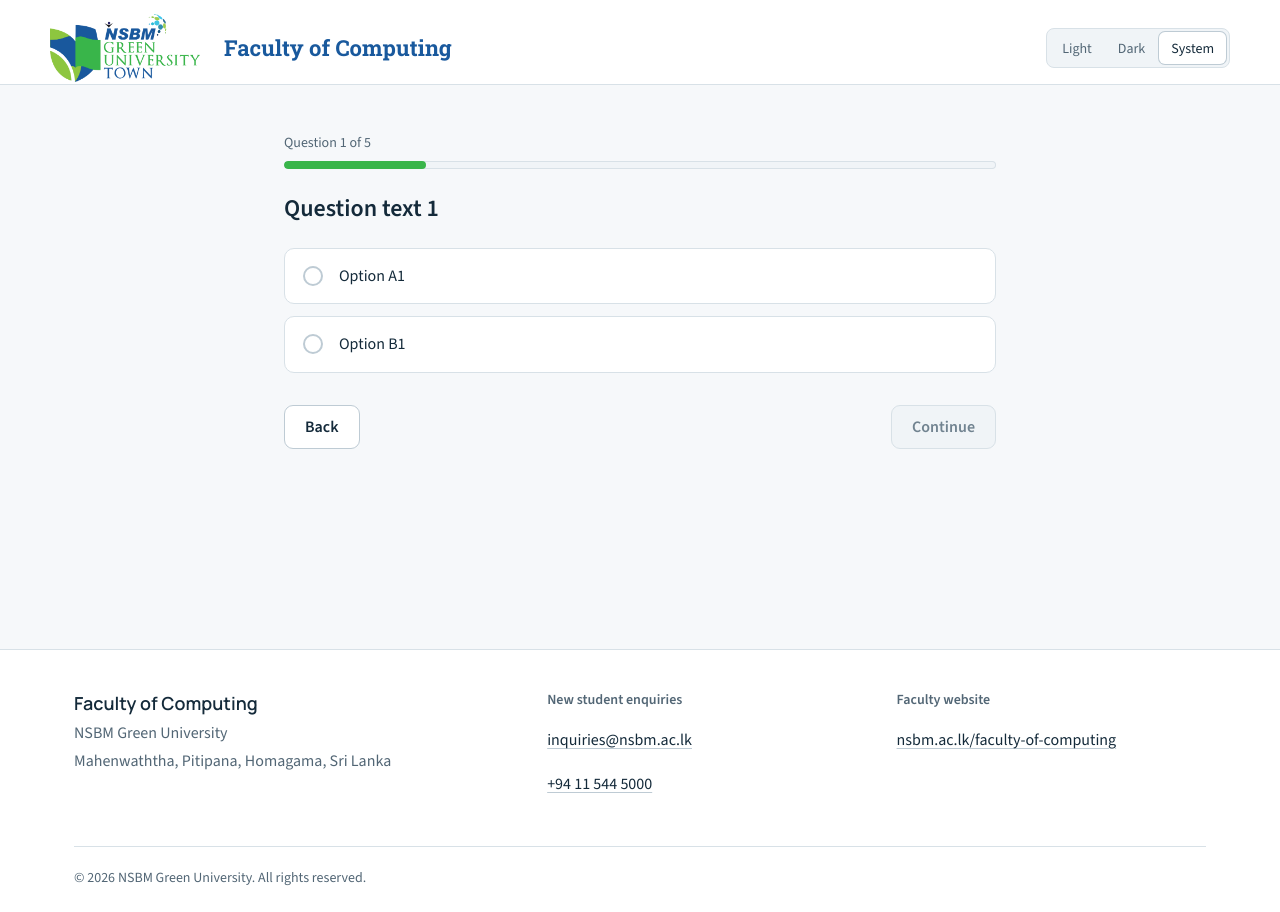
Test: questionnaire › moves forward and back while keeping answers
The width and height of the screenshot is (1280, 912).
Click the radio button labelled "Option B1": point(372, 344) [284,316,996,373]
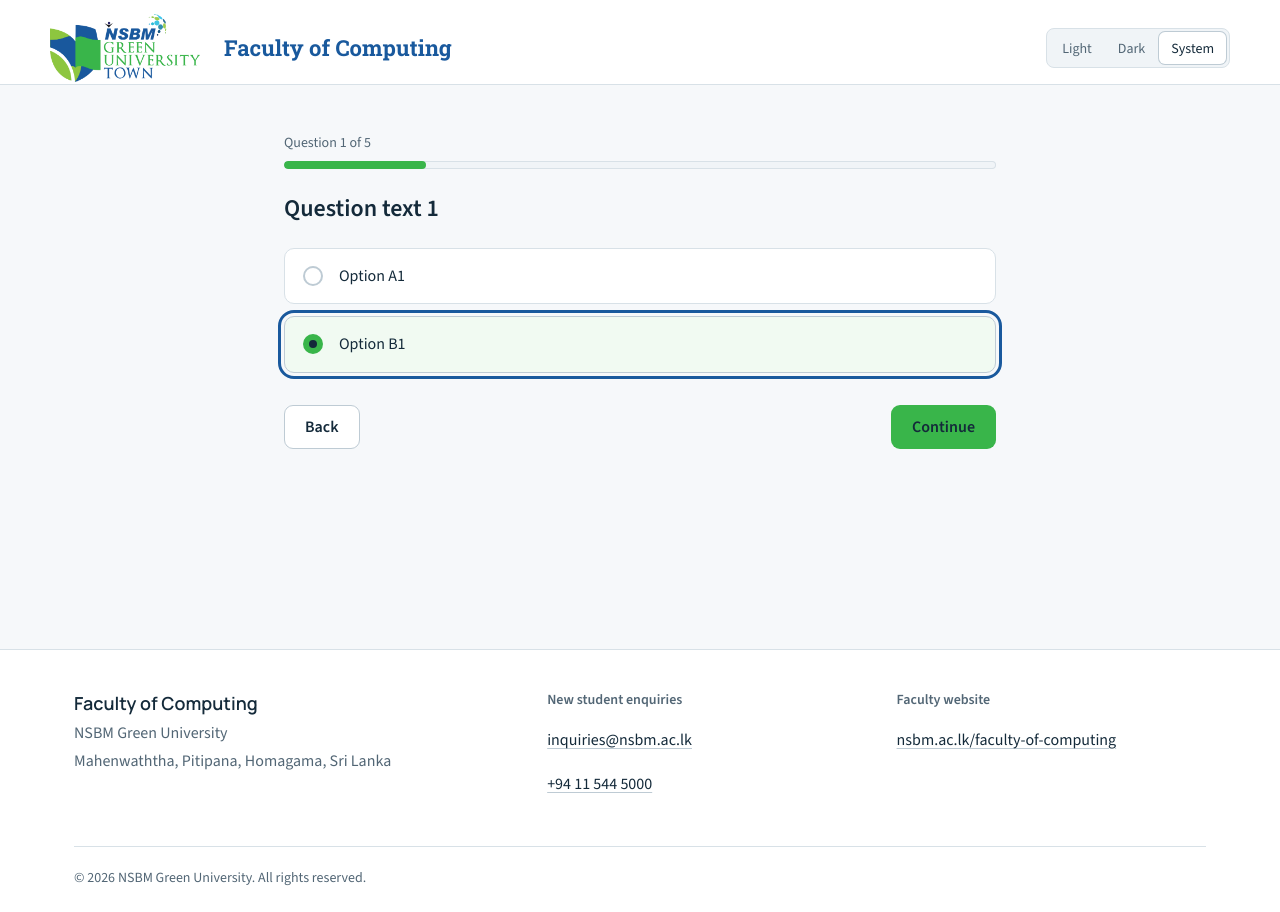
Click the button "Continue": point(944, 427) [891,405,996,449]
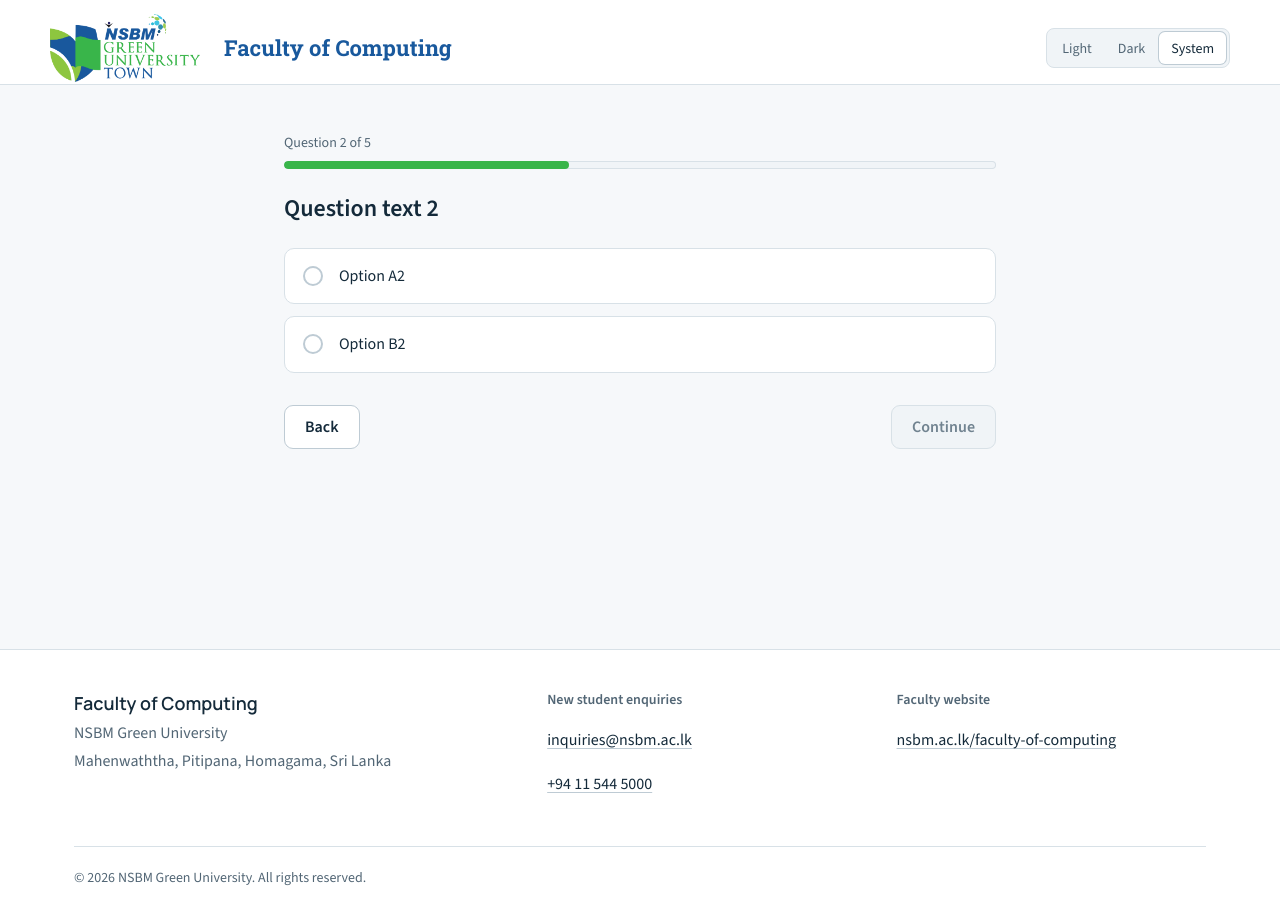
expect the heading "Question text 2" is shown: met, box [284,192,439,224]
Click the button "Back": point(322, 427) [284,405,360,449]
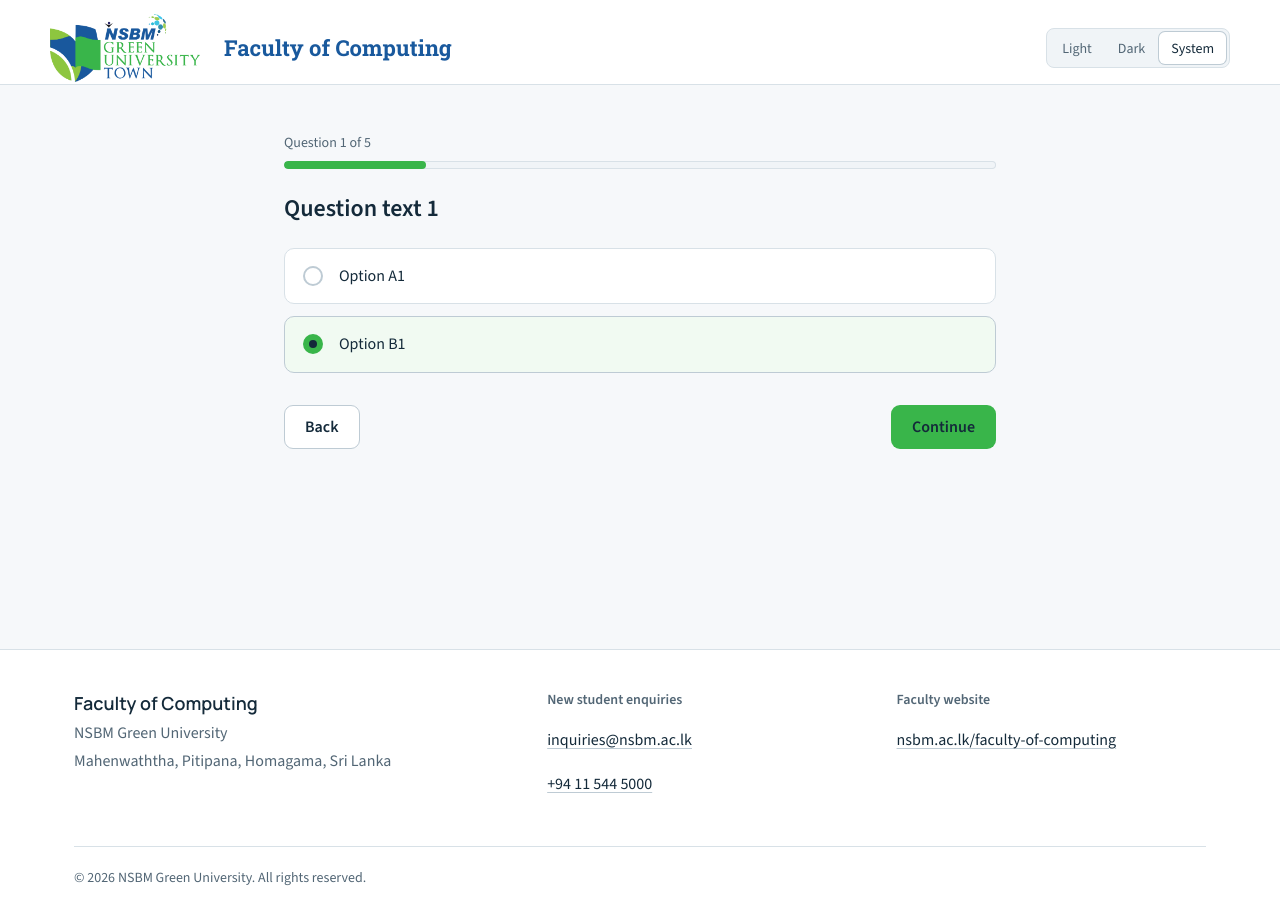
expect the radio button labelled "Option B1" is checked: met, box [284,316,996,373]
expect the heading "Question text 1" is shown: met, box [284,192,439,224]
